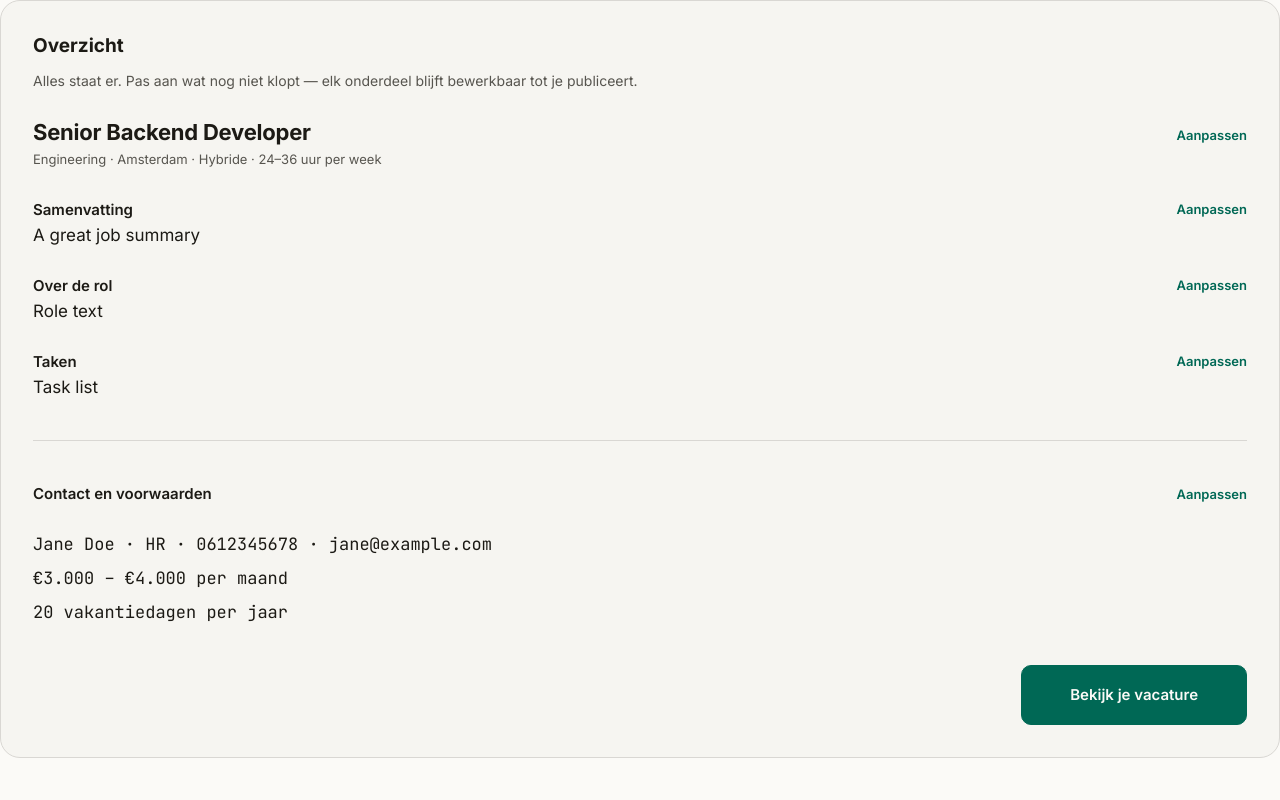
Test: ReviewVacancy › "Opslaan" saves the full current values with the edited section applied, then returns to read-only
Click the button with aria-label "Aanpassen Samenvatting" at x=1212, y=209, box [1176,196,1247,222]
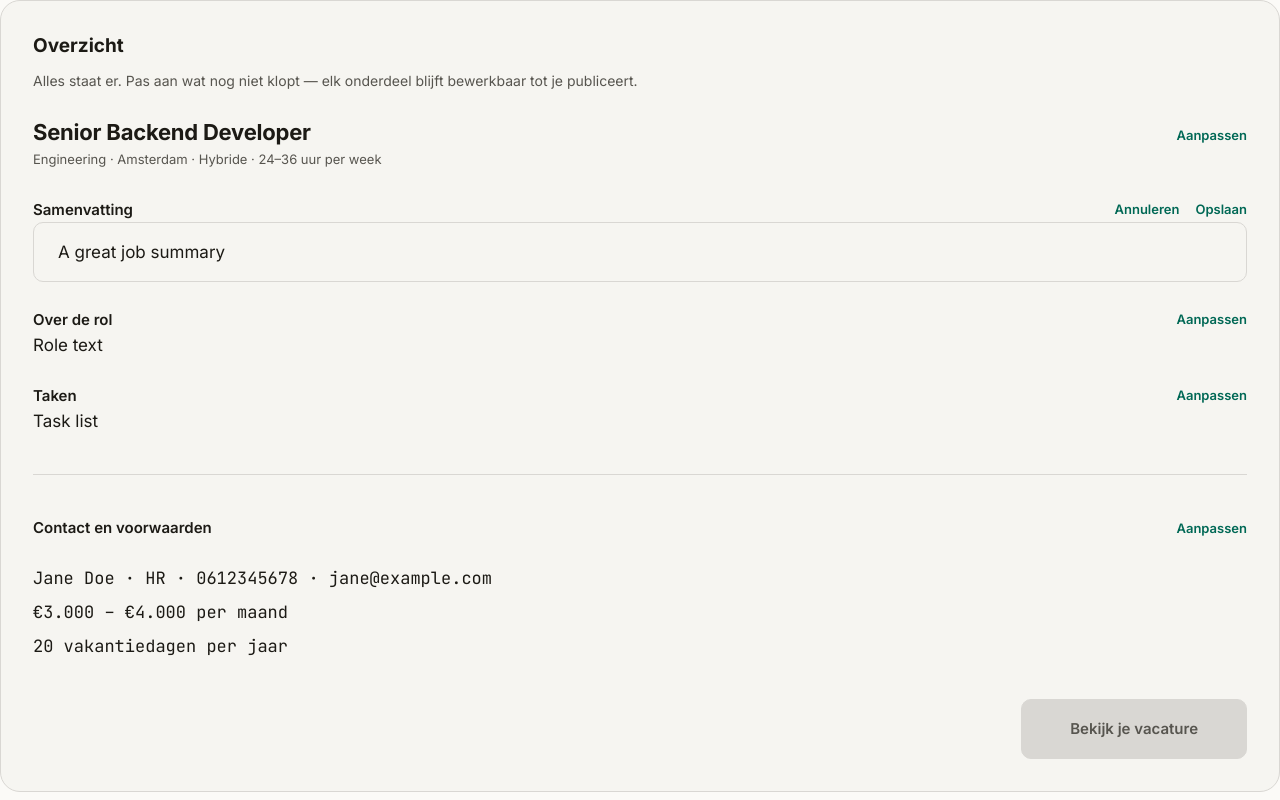
Replace the text in the field named "Samenvatting" with "Updated summary" at x=640, y=252, box [33,222,1247,282]
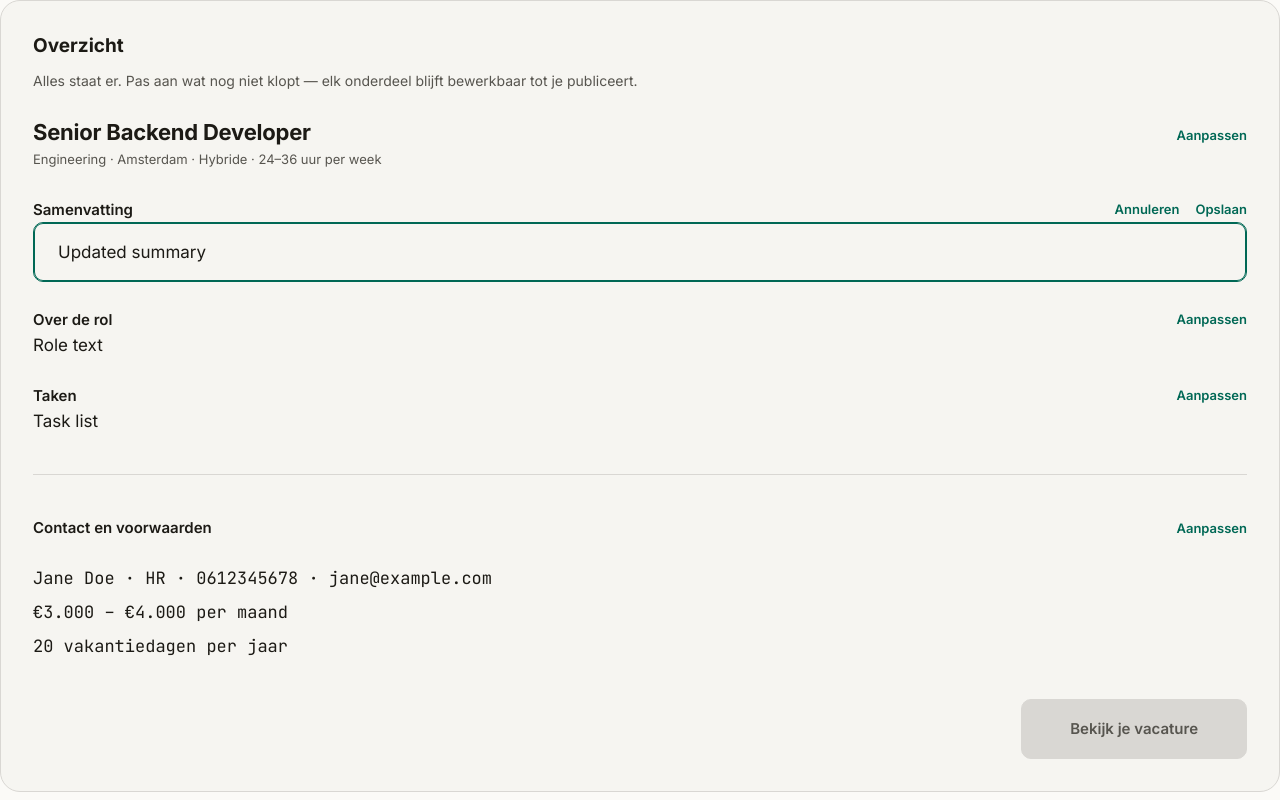
Click the button "Opslaan" at x=1221, y=209, box [1196,196,1247,222]
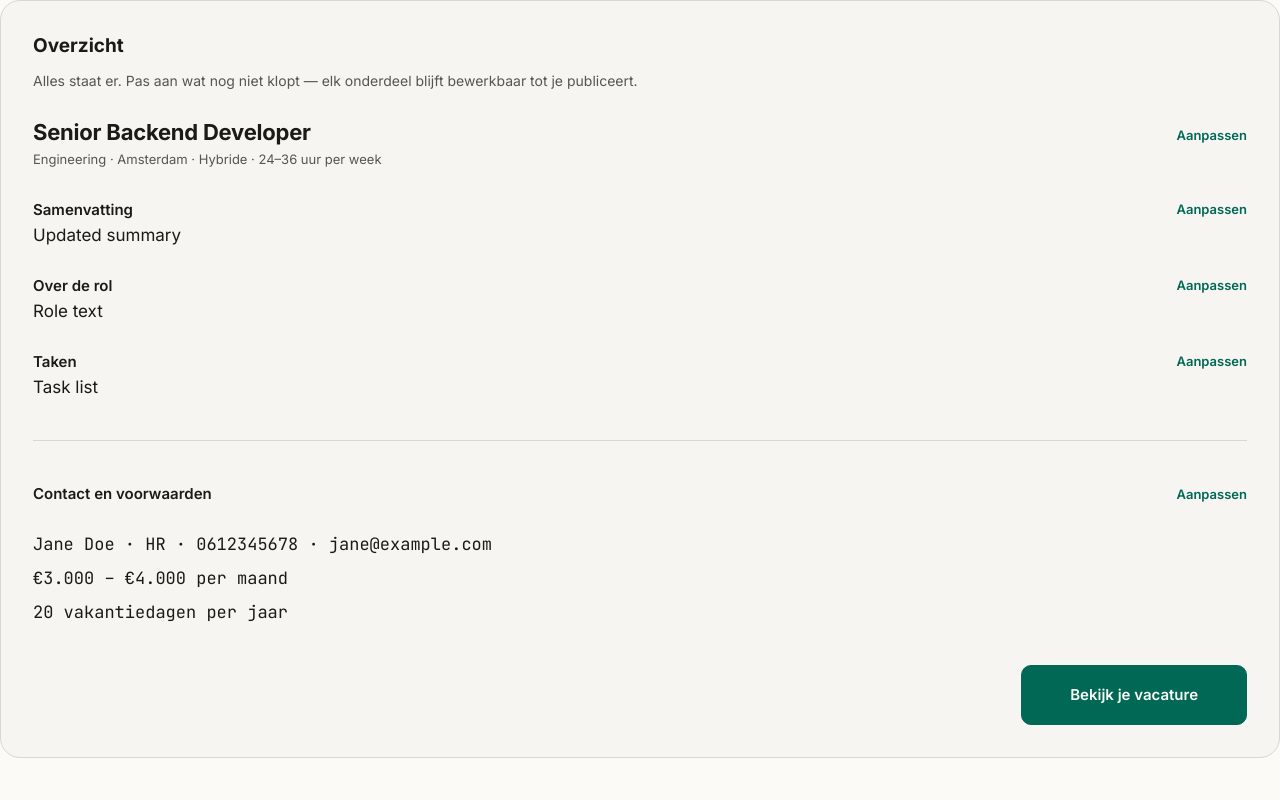
Result: the text "Updated summary" is shown at [33,225,181,245]
